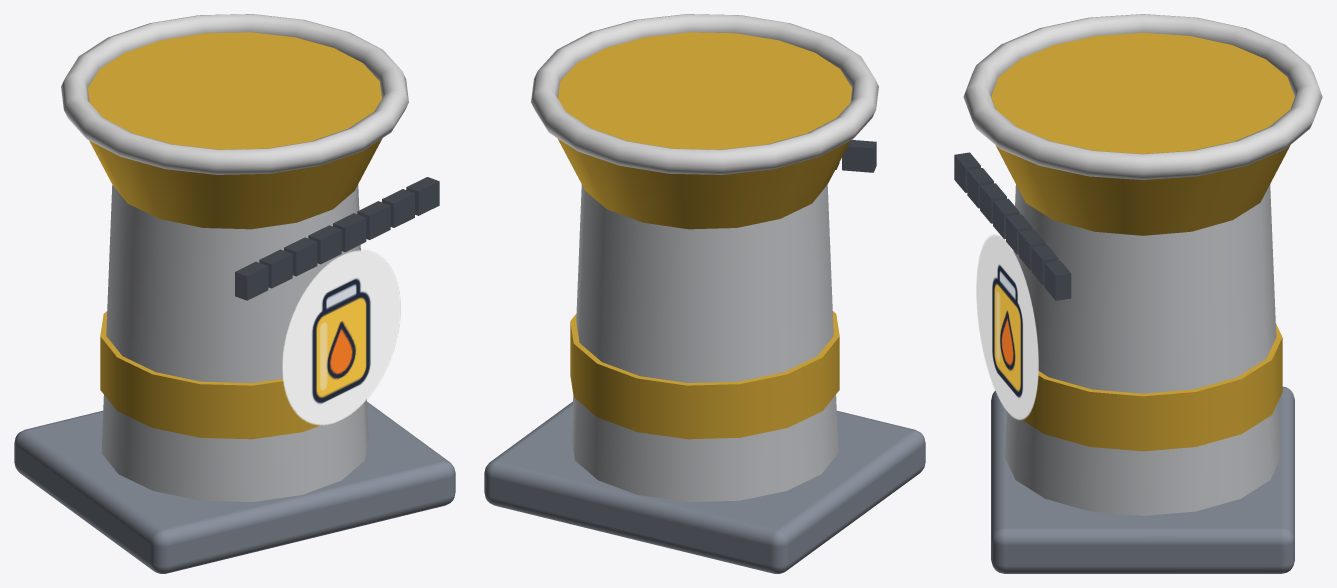
File: hopper_wax.glb
The picture shows the model from 3 angles, left to right: view 1: azimuth 30°, elevation 25°; view 2: azimuth 150°, elevation 25°; view 3: azimuth 270°, elevation 25°; orthographic projection. The views are drawn at different scales.
Parts seen in each view (by area): view 1: Hopper_wax, Icon, Pip0, Pip4, Pip2, Pip1, Pip7, Pip3, Pip5, Pip6; view 2: Hopper_wax, Pip0; view 3: Hopper_wax, Icon, Pip7, Pip6, Pip0, Pip3, Pip1, Pip5, Pip2, Pip4.
Boxes of the visible parts, left/top/right/bottom form: Hopper_wax: left=14, top=14, right=455, bottom=573; Icon: left=282, top=250, right=400, bottom=425; Pip0: left=235, top=261, right=268, bottom=300; Pip4: left=333, top=213, right=366, bottom=252; Pip2: left=284, top=237, right=317, bottom=276; Pip1: left=259, top=249, right=292, bottom=288; Pip7: left=406, top=177, right=439, bottom=215; Pip3: left=308, top=225, right=341, bottom=264; Pip5: left=357, top=201, right=390, bottom=239; Pip6: left=382, top=189, right=414, bottom=227; Hopper_wax: left=484, top=14, right=925, bottom=573; Pip0: left=842, top=140, right=876, bottom=172; Hopper_wax: left=963, top=14, right=1322, bottom=573; Icon: left=976, top=234, right=1038, bottom=420; Pip7: left=1044, top=260, right=1071, bottom=300; Pip6: left=1031, top=245, right=1058, bottom=285; Pip0: left=954, top=152, right=980, bottom=192; Pip3: left=993, top=198, right=1019, bottom=239; Pip1: left=967, top=168, right=993, bottom=208; Pip5: left=1019, top=229, right=1045, bottom=269; Pip2: left=980, top=183, right=1006, bottom=223; Pip4: left=1006, top=214, right=1032, bottom=254.
Size of the model in its own units: 1.35 by 1.67 by 1.33.
Materials: 10 (1 with a texture image).
